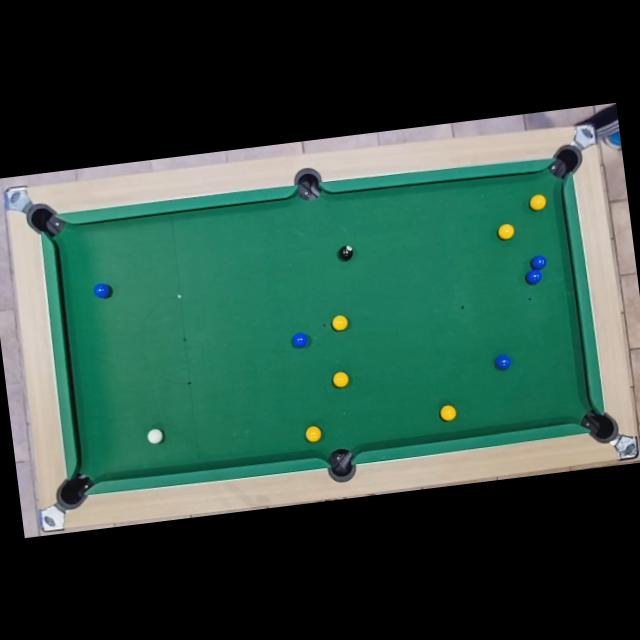Ball: (291, 331, 310, 350), (93, 282, 113, 300), (530, 193, 548, 212), (498, 222, 516, 241), (439, 404, 458, 422), (304, 424, 322, 442), (529, 253, 548, 270), (494, 354, 512, 371), (331, 314, 348, 332), (332, 370, 349, 388), (524, 268, 542, 284), (338, 244, 354, 262), (146, 428, 164, 444)
